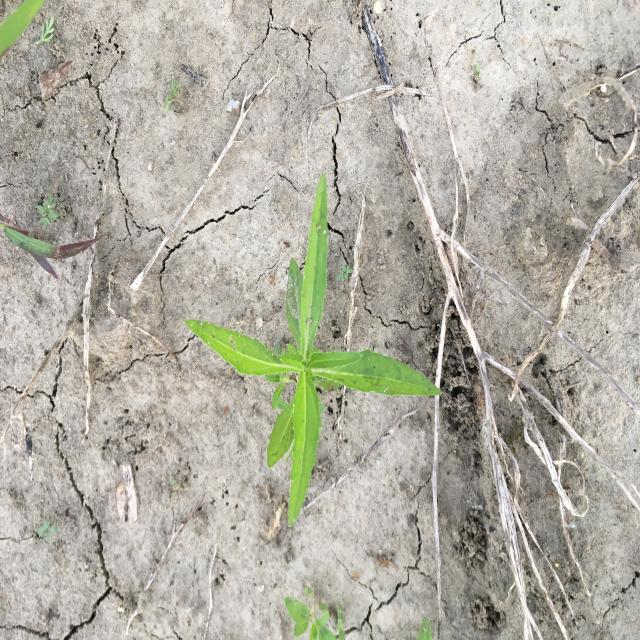Eclipta: (183, 170, 442, 530)
Ragweed: (35, 194, 60, 234)
